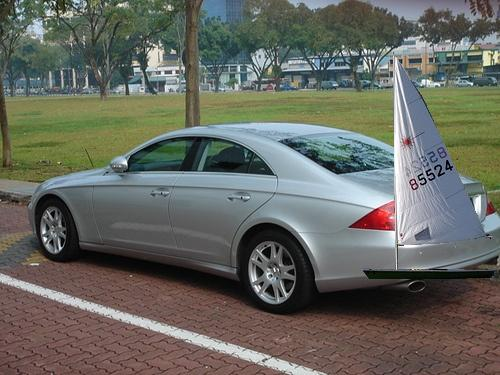tampered: (363, 53, 495, 279)
